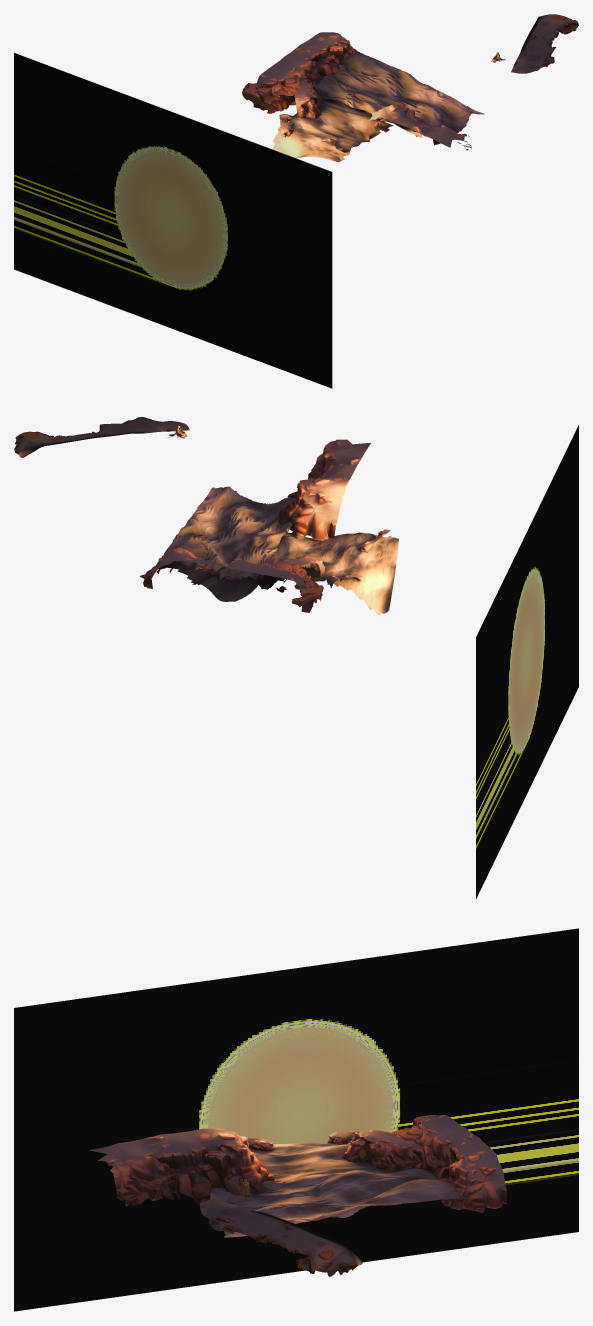
File: scena_07.glb
3 renders of one model, top to bottom at view 1: azimuth 30°, elevation 25°; view 2: azimuth 150°, elevation 25°; view 3: azimuth 270°, elevation 25°, orthographic. The views are drawn at different scales.
Parts seen in each view (by area): view 1: sole_scena_7, duna_1_scena_07, duna_2_scena_07, rock_05_scene_7, rock_retro_scene_7, rock_01_scene_7, rock_06_scene_7, rock_04_scene_7; view 2: sole_scena_7, duna_1_scena_07, duna_2_scena_07, rock_01_scene_7, rock_retro_scene_7, rock_05_scene_7, rock_06_scene_7; view 3: sole_scena_7, rock_01_scene_7, duna_1_scena_07, rock_05_scene_7, rock_retro_scene_7, duna_2_scena_07, rock_04_scene_7.
Part boxes in pixels (x1,y1,x2,y2): sole_scena_7: (14, 53, 332, 388); duna_1_scena_07: (314, 51, 484, 137); duna_2_scena_07: (272, 98, 393, 162); rock_05_scene_7: (253, 32, 359, 113); rock_retro_scene_7: (511, 14, 578, 73); rock_01_scene_7: (363, 103, 471, 150); rock_06_scene_7: (242, 78, 304, 106); rock_04_scene_7: (294, 79, 325, 118); sole_scena_7: (476, 425, 578, 898); duna_1_scena_07: (155, 486, 293, 601); duna_2_scena_07: (259, 532, 398, 615); rock_01_scene_7: (279, 439, 370, 540); rock_retro_scene_7: (14, 417, 189, 457); rock_05_scene_7: (140, 547, 316, 612); rock_06_scene_7: (272, 564, 323, 606); sole_scena_7: (14, 928, 578, 1311); rock_01_scene_7: (89, 1127, 282, 1206); duna_1_scena_07: (208, 1168, 469, 1237); rock_05_scene_7: (411, 1115, 506, 1212); rock_retro_scene_7: (199, 1198, 362, 1276); duna_2_scena_07: (250, 1143, 384, 1181); rock_04_scene_7: (342, 1129, 423, 1171).
Size of the model in its own units: 1357 by 597 by 1007.
8 materials, 8 textured.
